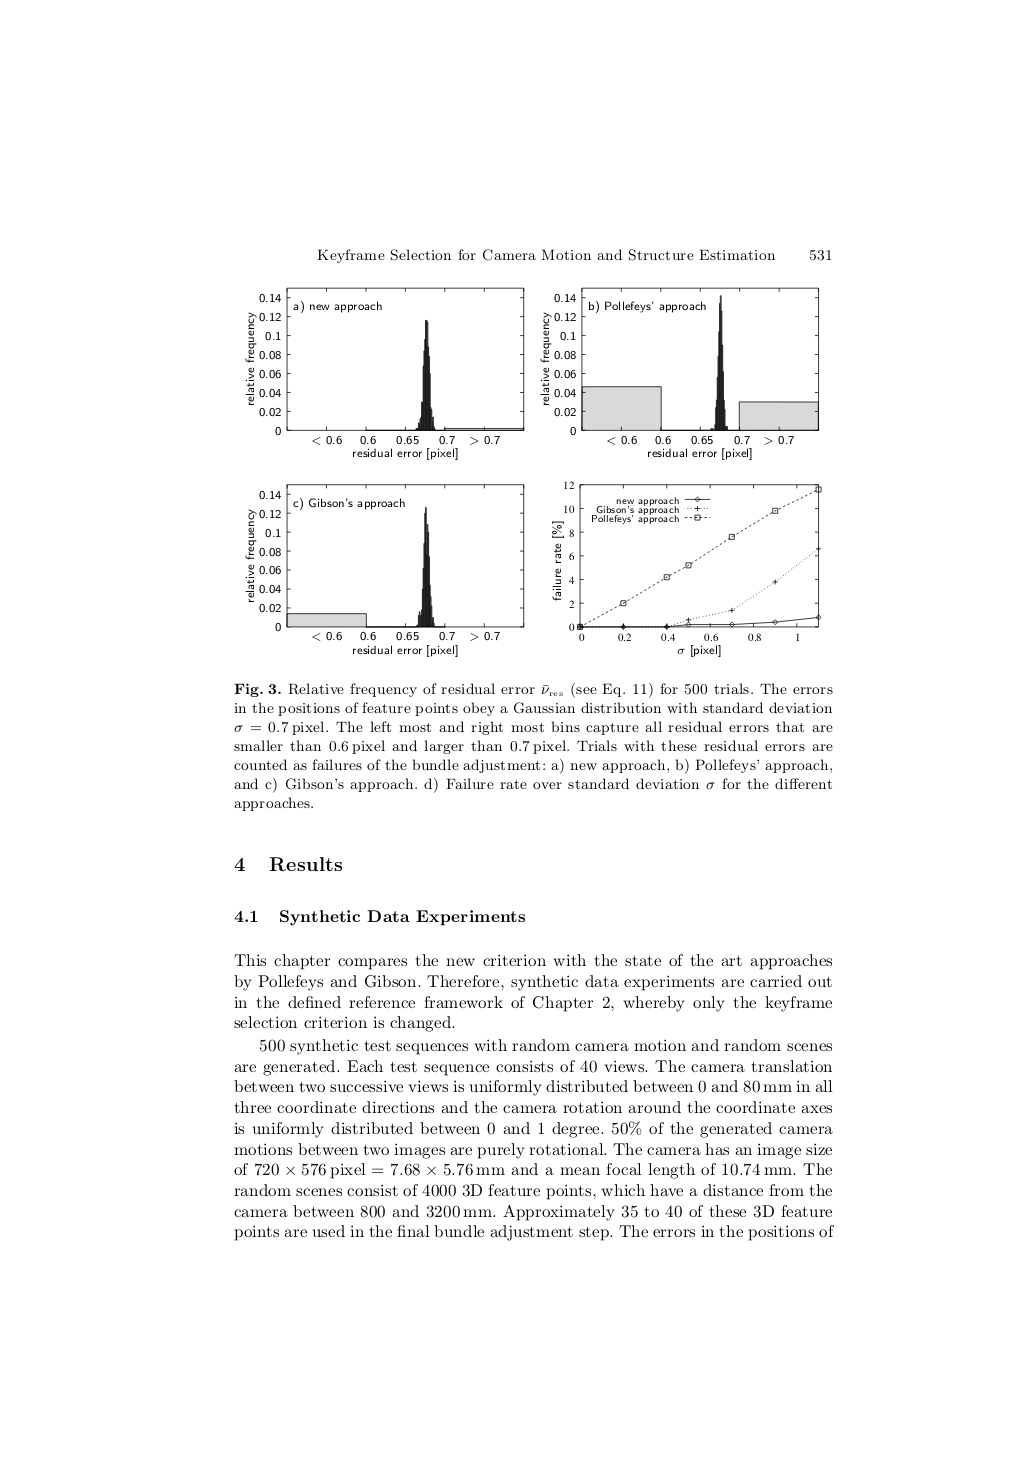figure: (245, 287, 524, 458), (540, 287, 819, 458), (245, 484, 524, 656), (552, 481, 821, 656)
